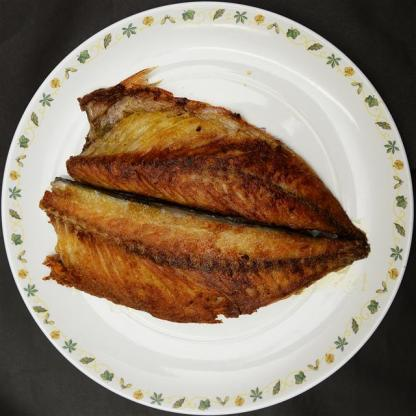Peixe: (49, 74, 390, 306)
